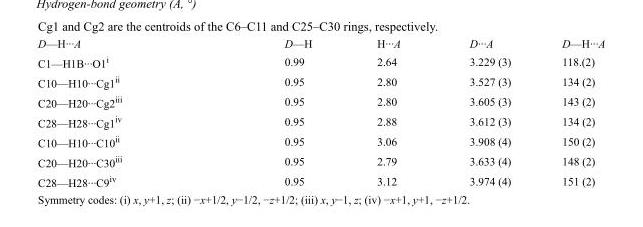table: (37, 36, 604, 188)
table column: (37, 36, 202, 188), (202, 36, 343, 188), (434, 36, 535, 188), (343, 36, 434, 188), (535, 36, 604, 188)
table row: (37, 51, 604, 71), (37, 71, 604, 91), (37, 91, 604, 111), (37, 111, 604, 131), (37, 131, 604, 151), (37, 151, 604, 170), (37, 170, 604, 188), (37, 36, 604, 51)
